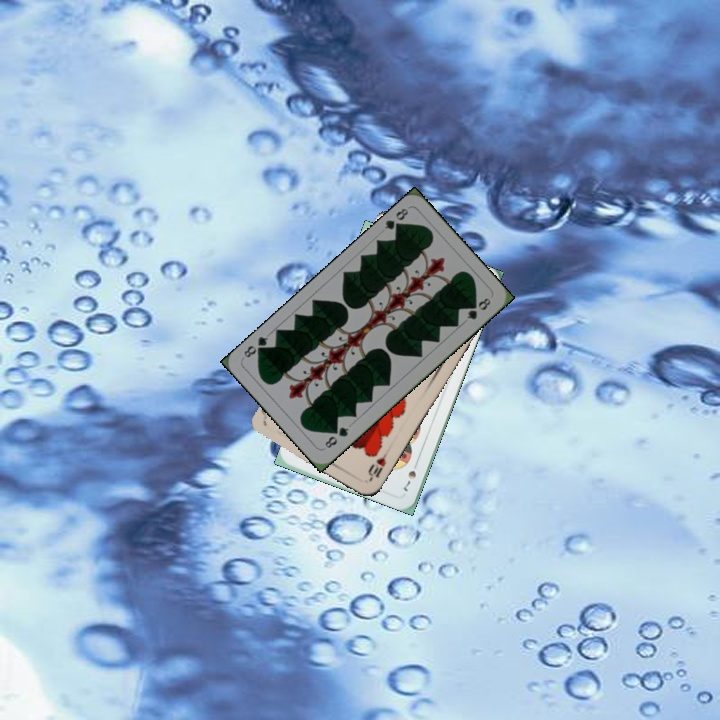G8: (380, 204, 411, 235), (320, 423, 352, 451)
H10: (364, 446, 391, 483)
S7: (399, 457, 421, 494)
